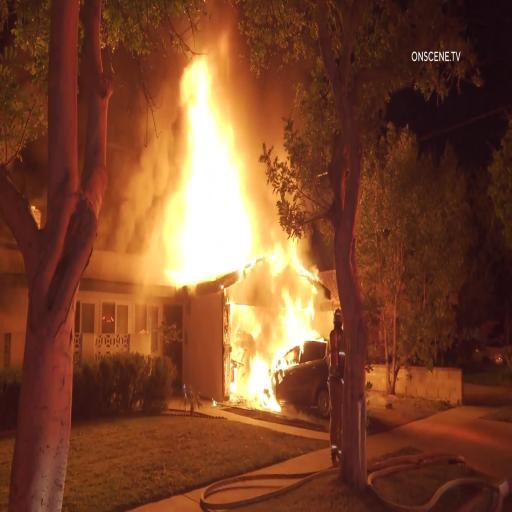fire: (155, 16, 260, 288), (257, 252, 329, 340), (228, 295, 270, 408)
smoke: (94, 96, 150, 281)
